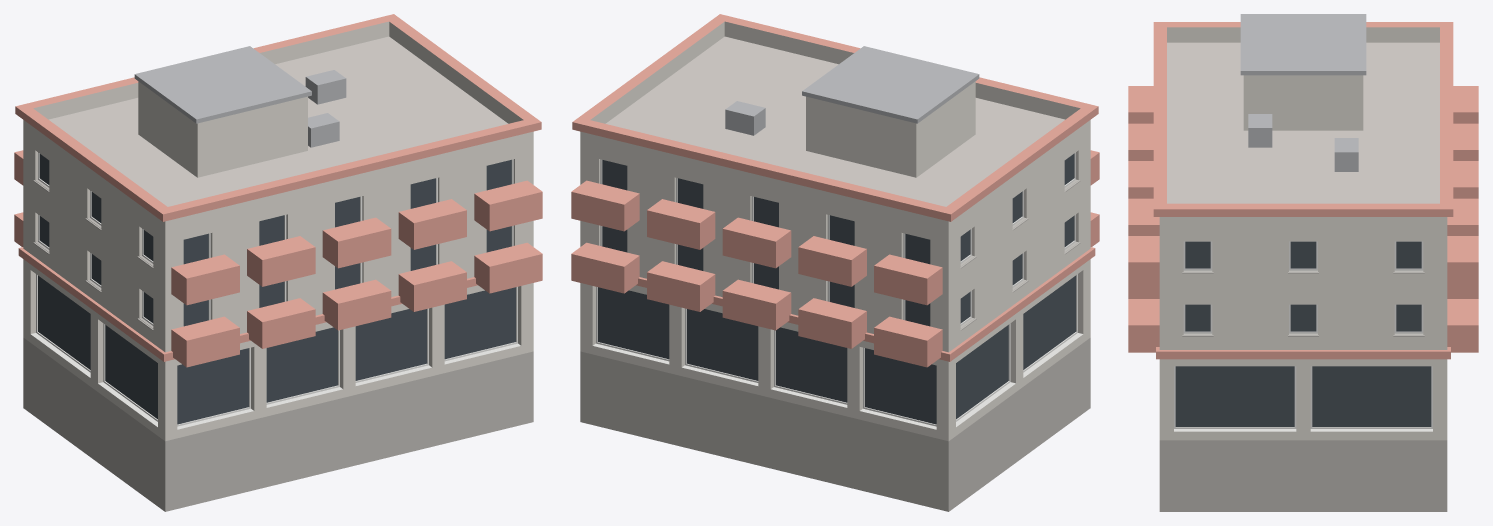
Rendered from hotel_3_m.glb.
The picture shows the model from 3 angles, left to right: view 1: azimuth 30°, elevation 25°; view 2: azimuth 150°, elevation 25°; view 3: azimuth 270°, elevation 25°; orthographic projection.
Parts seen in each view (by area): view 1: hotel_3_m; view 2: hotel_3_m; view 3: hotel_3_m.
Part boxes in pixels (x1,y1,x2,y2): hotel_3_m: [14, 14, 542, 511]; hotel_3_m: [571, 14, 1099, 511]; hotel_3_m: [1128, 14, 1478, 511].
Bounding box in the file's own units: 18.5 × 16.15 × 14.6.
